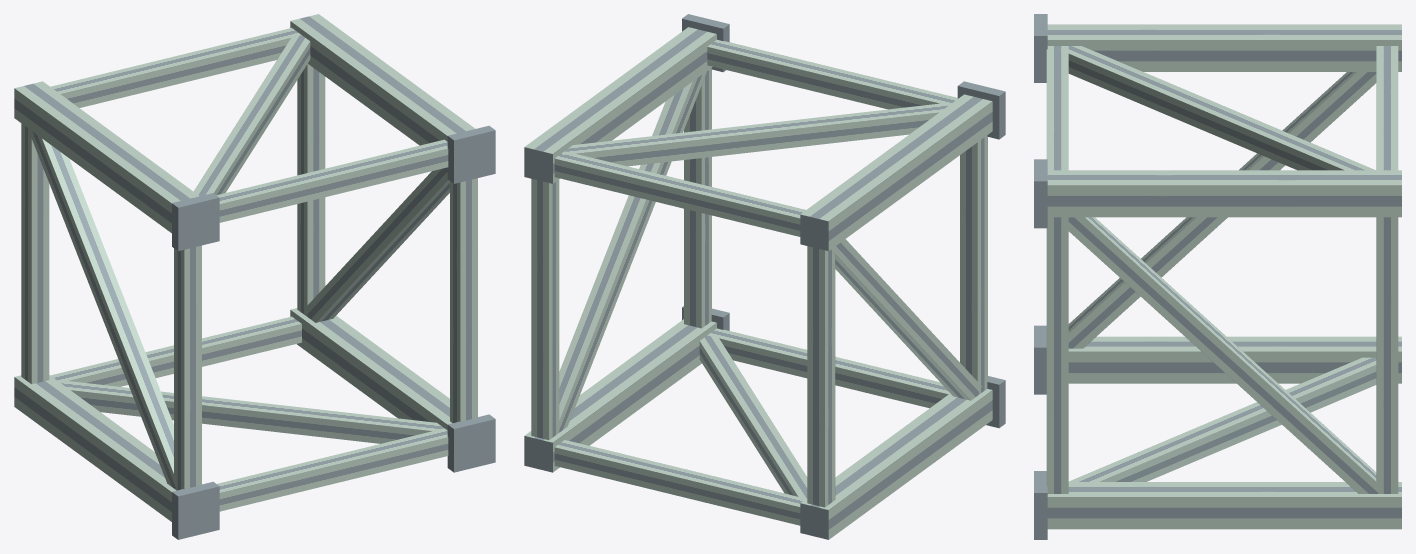
Rendered from ScaffoldingBawah.fbx.
3 views of the same model, side by side, from view 1: azimuth 30°, elevation 25°; view 2: azimuth 150°, elevation 25°; view 3: azimuth 270°, elevation 25° (orthographic). The views are drawn at different scales.
Parts seen in each view (by area): view 1: ScaffoldingBawah; view 2: ScaffoldingBawah; view 3: ScaffoldingBawah.
Boxes of the visible parts, x1,y1,x2,y2 form: ScaffoldingBawah: (14,14,495,539); ScaffoldingBawah: (524,14,1005,539); ScaffoldingBawah: (1034,14,1401,539).
Bounding box in the file's own units: 104 × 104 × 96.95.
